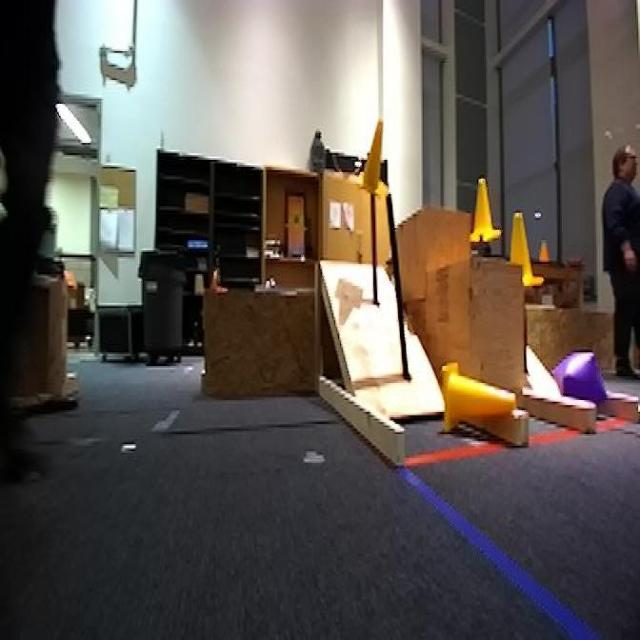frc_cone: (438, 363, 517, 434), (508, 208, 544, 292), (358, 116, 392, 196), (466, 174, 501, 245)
frc_cube: (553, 354, 597, 412)
